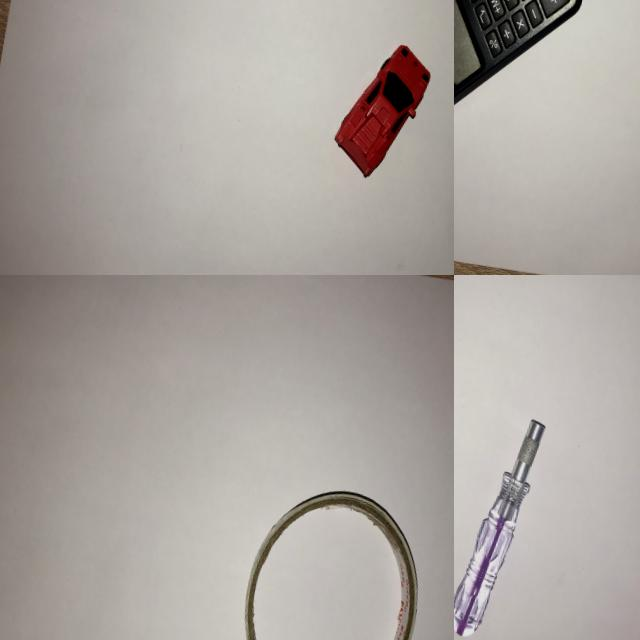calculator: (454, 0, 604, 140)
car: (320, 30, 444, 190)
scotch: (222, 470, 439, 640)
screwdriver: (454, 397, 558, 640)
